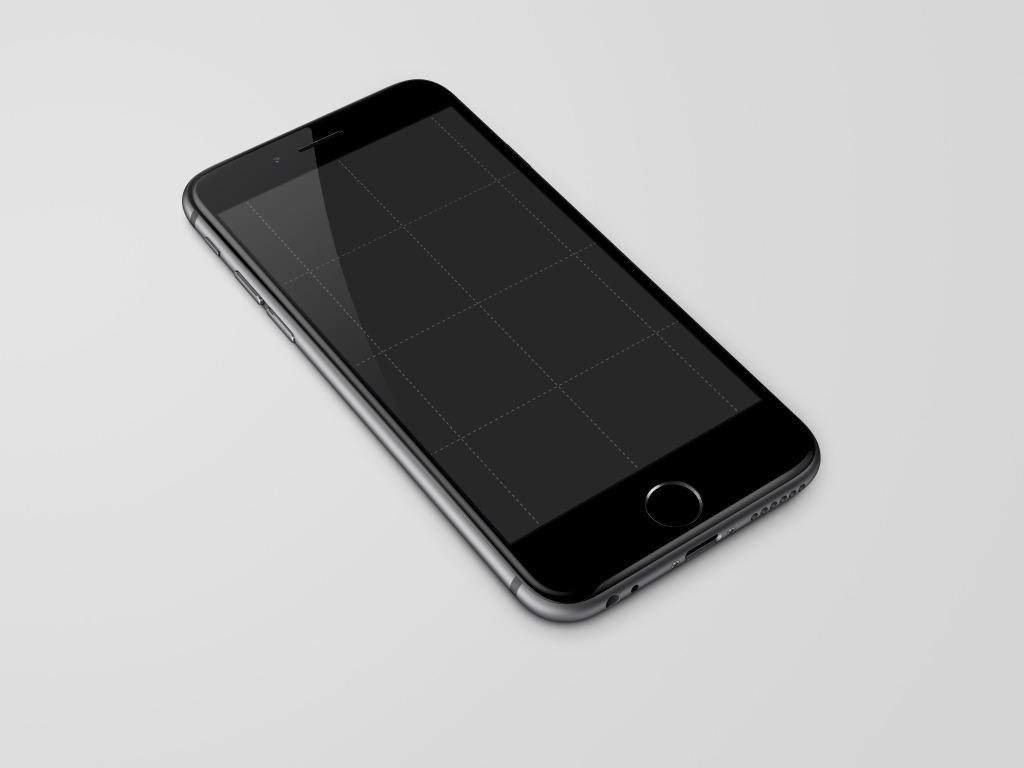phone: (196, 74, 799, 566)
